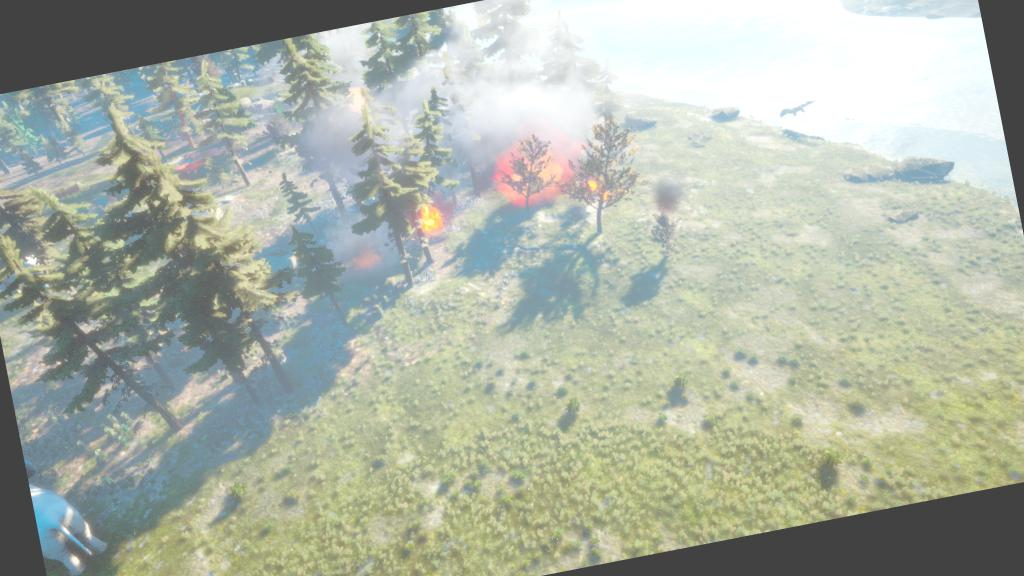Fire: (478, 113, 590, 223), (404, 191, 457, 247), (336, 83, 373, 118), (349, 243, 390, 274)
crocodile: (768, 90, 825, 131)
smoke: (404, 0, 622, 203), (279, 99, 443, 247)
